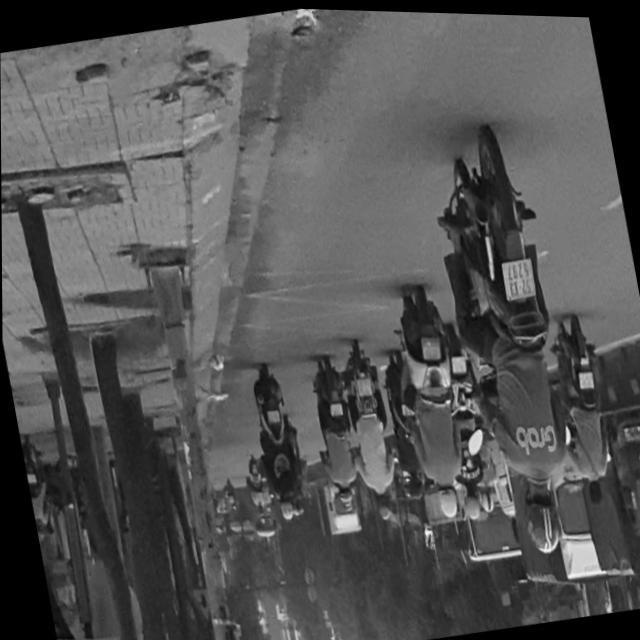helmet: (517, 475, 567, 555), (433, 477, 460, 517), (371, 486, 394, 521), (459, 483, 481, 518)
licenseplate: (416, 112, 601, 564), (383, 279, 478, 525), (545, 310, 621, 508), (333, 336, 405, 526)
motorcyclist: (586, 474, 605, 504)
nohelmet: (499, 254, 536, 297), (419, 335, 441, 360), (354, 374, 370, 394), (577, 367, 594, 385)
